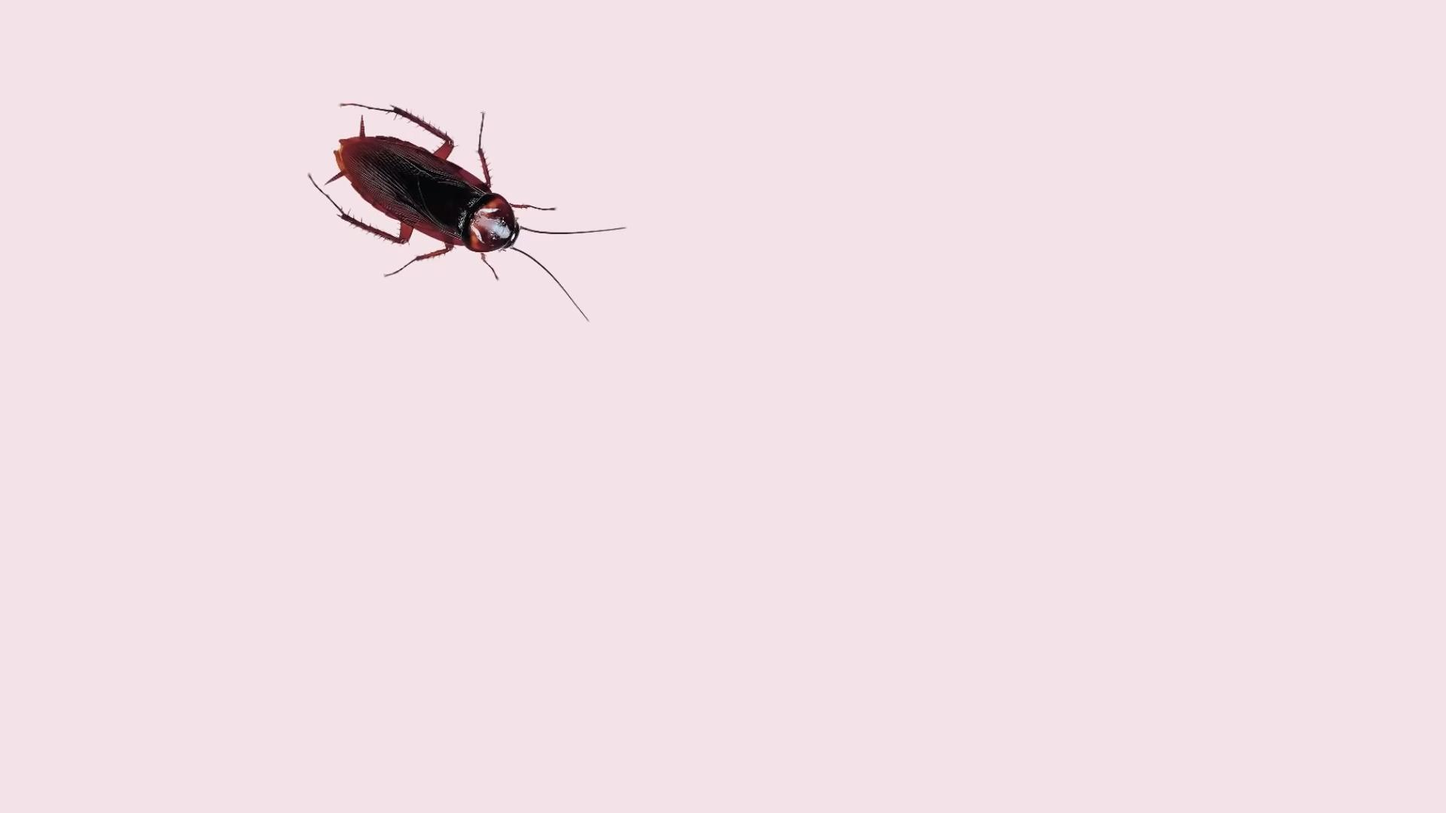cockroach: (304, 89, 623, 315)
